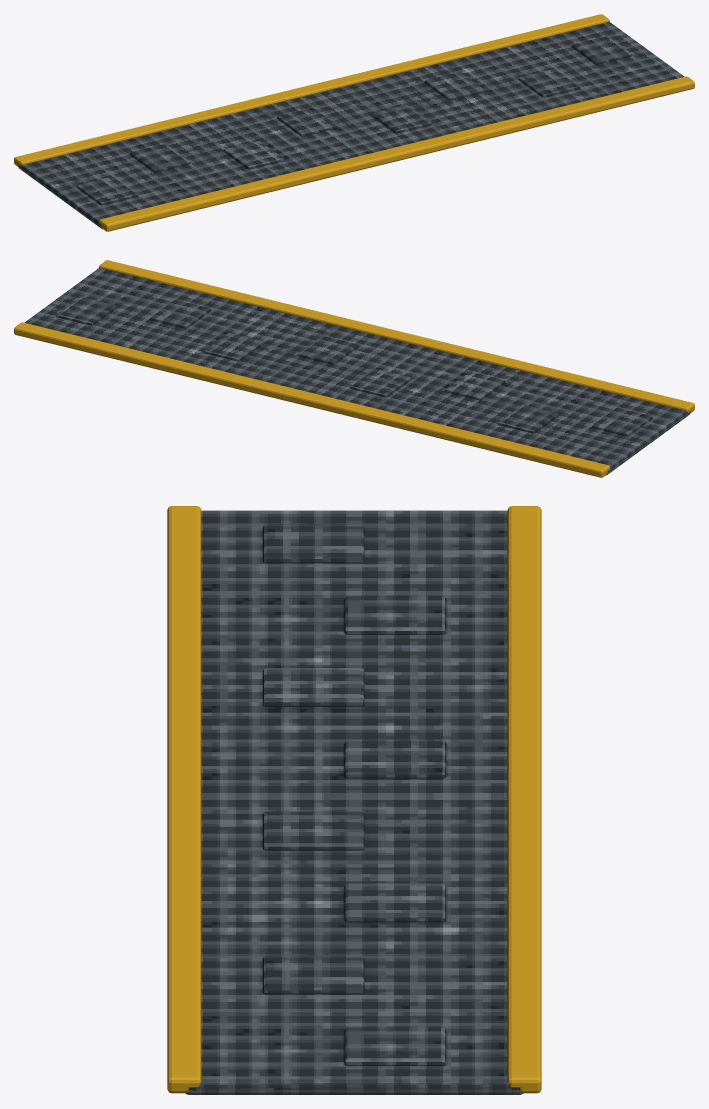
File: base_floor_joint.glb
The picture shows the model from 3 angles, top to bottom: view 1: azimuth 30°, elevation 25°; view 2: azimuth 150°, elevation 25°; view 3: azimuth 270°, elevation 25°; orthographic projection. The views are drawn at different scales.
Visible parts, largest first — view 1: base_floor_joint.001; view 2: base_floor_joint.001; view 3: base_floor_joint.001.
Part boxes in pixels (left/top/right/bottom): base_floor_joint.001: left=14, top=14, right=694, bottom=231; base_floor_joint.001: left=14, top=260, right=694, bottom=477; base_floor_joint.001: left=167, top=506, right=541, bottom=1094.
Size of the model in its own units: 4 by 0.055 by 1.1.
Materials: 2 (2 with a texture image).
